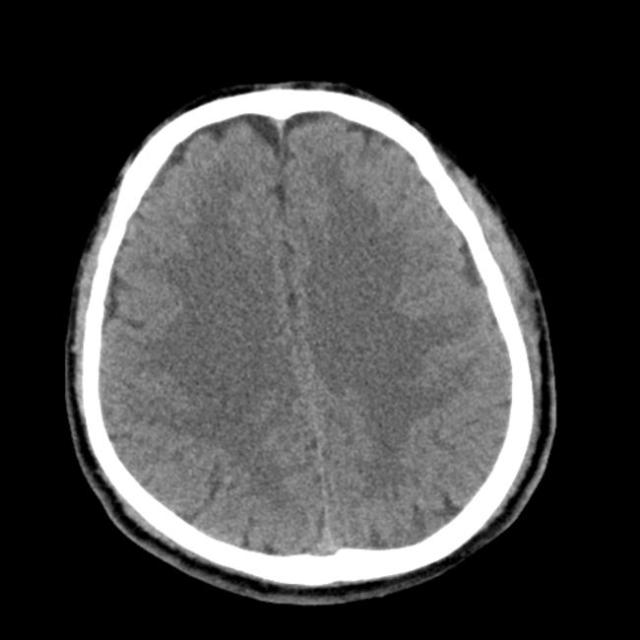lesion: (63, 78, 559, 602)
